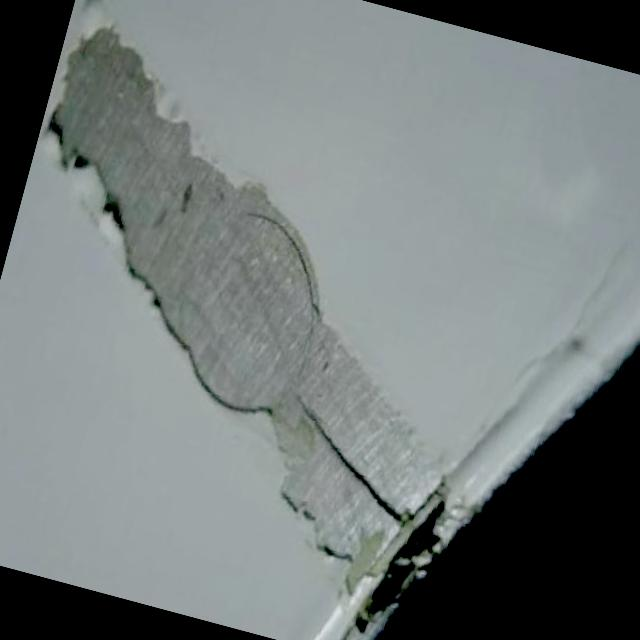crack: (285, 378, 414, 539)
